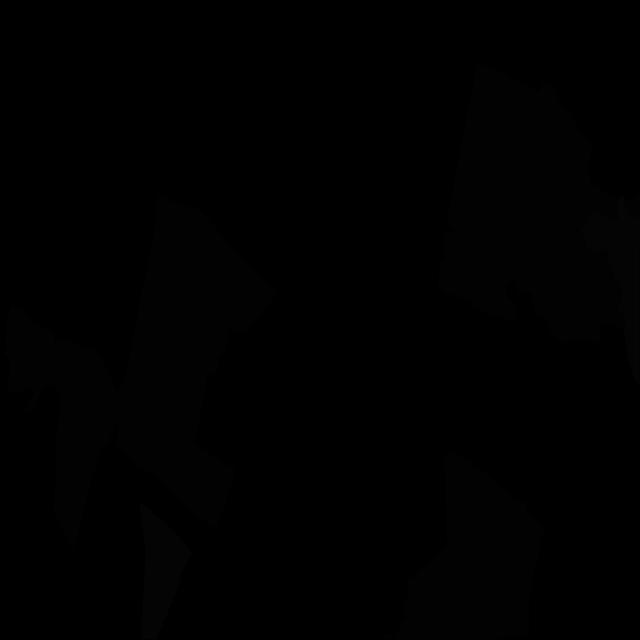cardboard: (115, 195, 280, 529), (438, 64, 626, 343), (381, 451, 546, 640), (4, 305, 120, 551), (624, 190, 640, 219)
soft_plastic: (580, 195, 640, 384), (139, 501, 192, 640)
